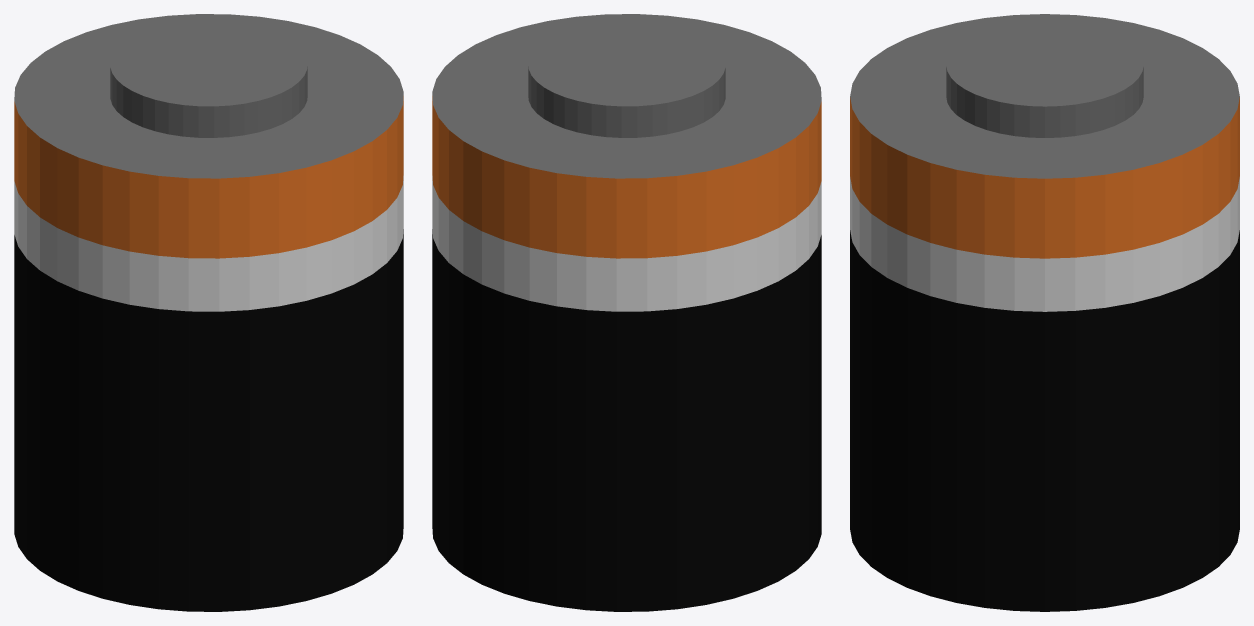
File: battery.fbx
The picture shows the model from 3 angles, left to right: view 1: azimuth 30°, elevation 25°; view 2: azimuth 150°, elevation 25°; view 3: azimuth 270°, elevation 25°; orthographic projection.
Visible parts, largest first — view 1: Cylinder; view 2: Cylinder; view 3: Cylinder.
Boxes of the visible parts, box(x1,y1,x2,y2) form: Cylinder: box(14, 14, 403, 611); Cylinder: box(432, 14, 821, 611); Cylinder: box(850, 14, 1239, 611).
Size of the model in its own units: 200 by 263 by 200.
